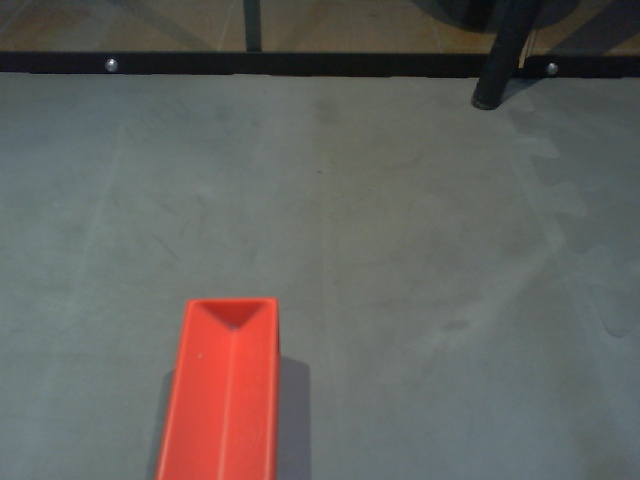RedSample: (156, 294, 282, 480)
